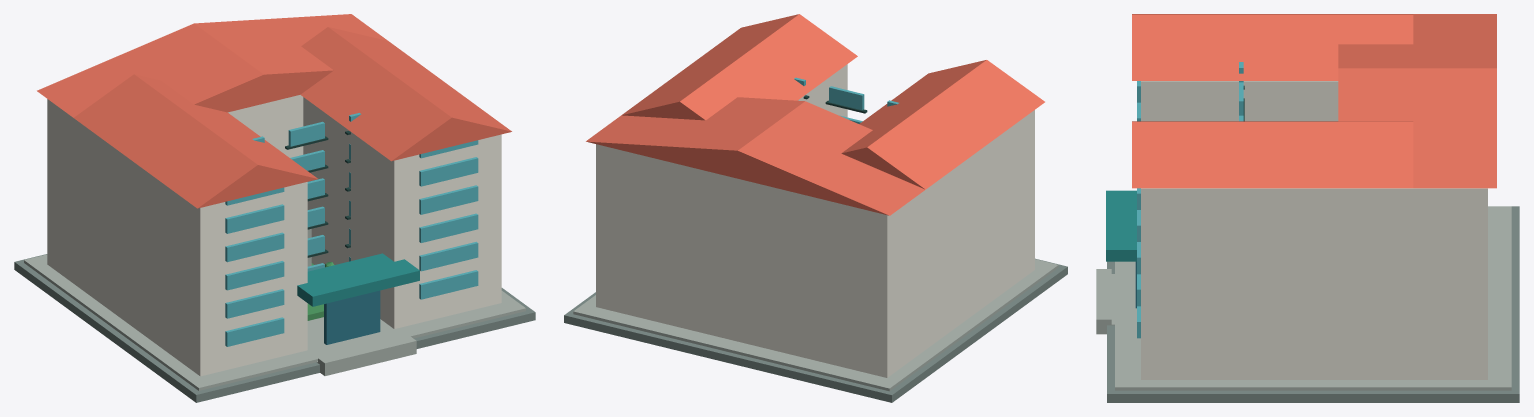
File: university_lv2.glb
The picture shows the model from 3 angles, left to right: view 1: azimuth 30°, elevation 25°; view 2: azimuth 150°, elevation 25°; view 3: azimuth 270°, elevation 25°; orthographic projection. The views are drawn at different scales.
Parts seen in each view (by area): view 1: ivory, coral, glass, concrete, pavement, teal, glassDark, dark; view 2: ivory, coral, concrete, pavement, glass; view 3: ivory, coral, concrete, pavement, teal, glass.
Part boxes in pixels (x1,y1,x2,y2): ivory: [47, 95, 501, 376]; coral: [37, 14, 511, 208]; glass: [225, 113, 478, 346]; concrete: [24, 229, 525, 390]; pavement: [14, 254, 535, 402]; teal: [297, 253, 419, 306]; glassDark: [324, 290, 380, 344]; dark: [285, 131, 350, 257]; ivory: [596, 64, 1034, 377]; coral: [586, 14, 1044, 215]; concrete: [573, 259, 1058, 391]; pavement: [564, 258, 1067, 402]; glass: [794, 77, 898, 123]; ivory: [1141, 81, 1487, 379]; coral: [1132, 14, 1496, 188]; concrete: [1096, 206, 1511, 390]; pavement: [1107, 206, 1519, 402]; teal: [1106, 190, 1136, 261]; glass: [1137, 62, 1243, 338].
Bounding box in the file's own units: 9.8 × 5.86 × 9.34.
